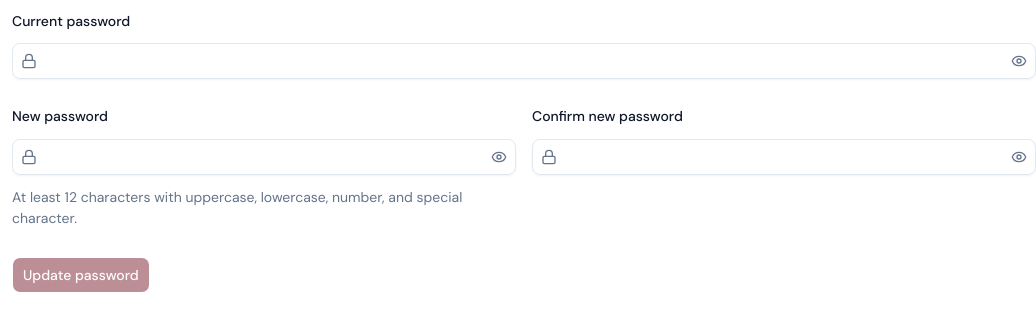
Scenario: ChangePasswordForm › shows error when passwords do not match
Type "oldpass" into the password field labelled "Current password" at (522, 61), box [37,43,1007,79]
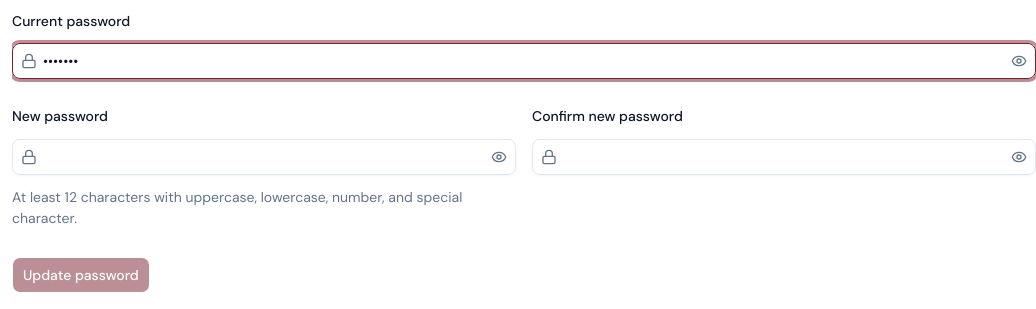
Type "Test@123456!" into the password field labelled "New password" at (262, 156), box [37,138,487,174]
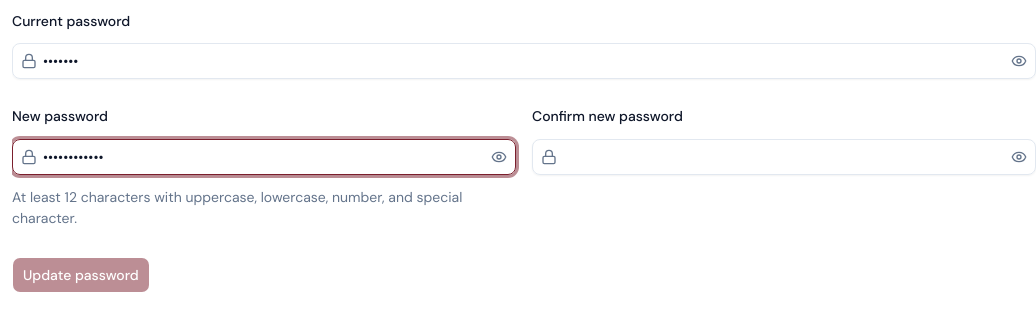
Type "DifferentPass@99!" into the password field labelled "Confirm new password" at (782, 156), box [557,138,1007,174]
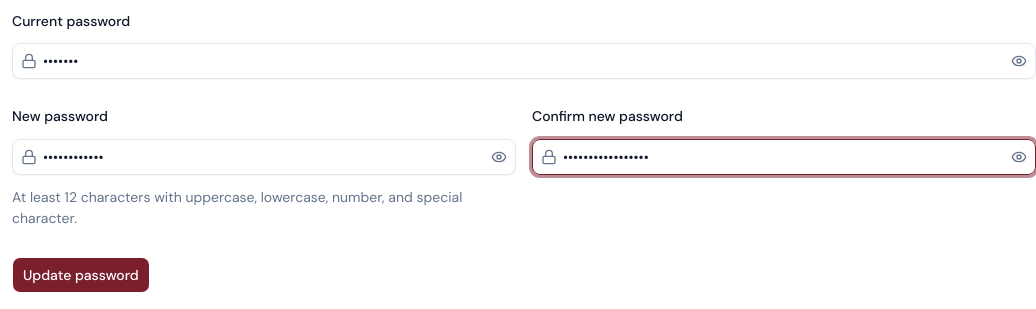
Click the button "Update password" at (81, 274), box [12,256,150,292]
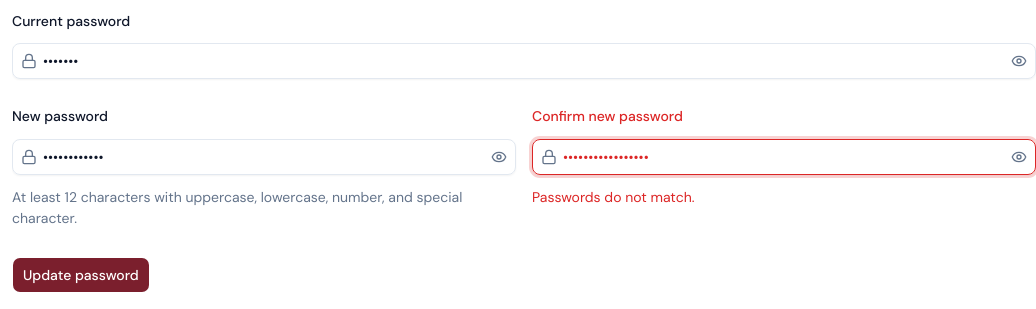
Now the text "Passwords do not match." is shown, box [532,188,694,206]
